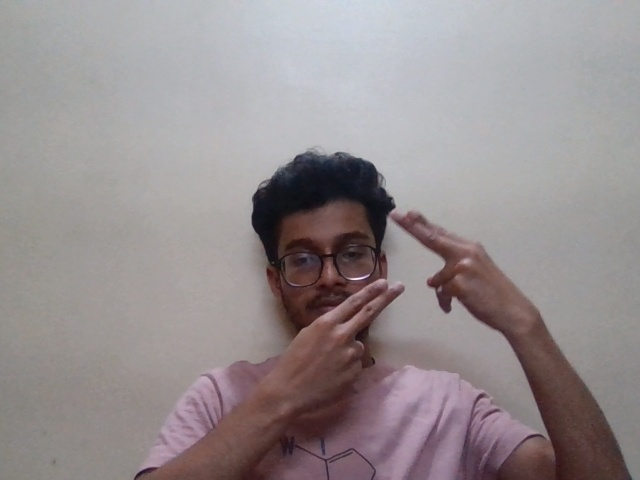my-name-is: (253, 198, 592, 416)
